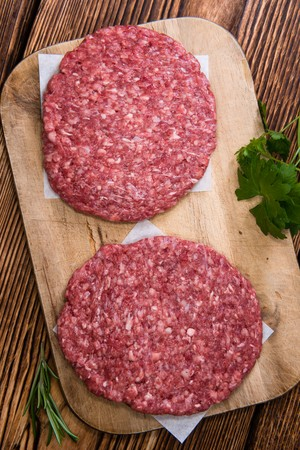ground_beef: (48, 241, 274, 404), (41, 28, 209, 220)
